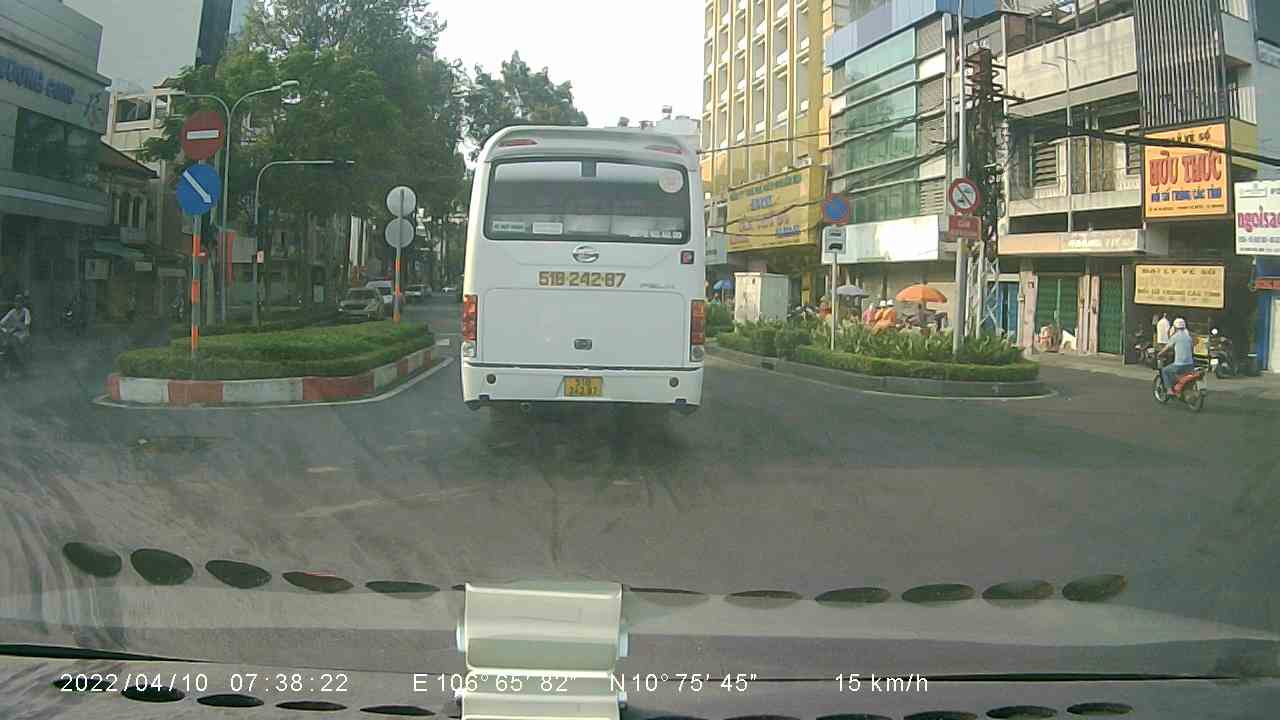Bien khac: (946, 173, 980, 213)
Cam di nguoc chieu: (178, 107, 224, 162)
Cam do xe: (817, 191, 852, 225)
Huong di phai re phai: (171, 165, 227, 217)
